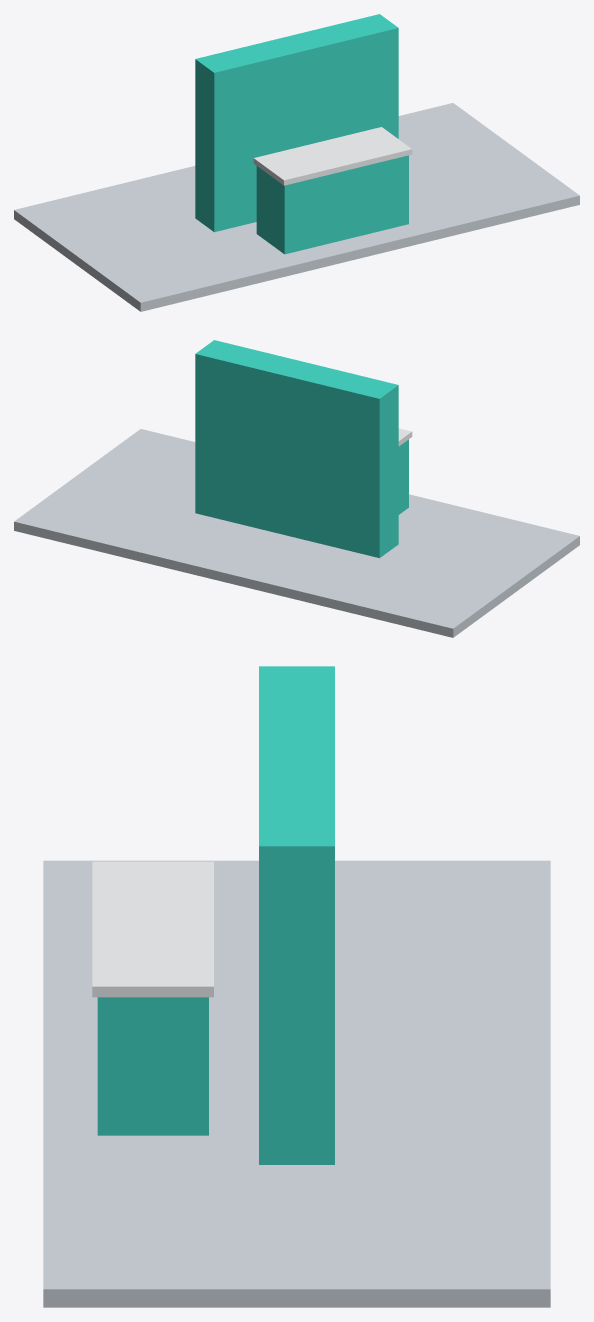
3 views of the same model, one above another, from view 1: azimuth 30°, elevation 25°; view 2: azimuth 150°, elevation 25°; view 3: azimuth 270°, elevation 25° (orthographic). The views are drawn at different scales.
Parts seen in each view (by area): view 1: Exhibition Booth Concept; view 2: Exhibition Booth Concept; view 3: Exhibition Booth Concept.
Part boxes in pixels (x1,y1,x2,y2): Exhibition Booth Concept: [14, 14, 579, 311]; Exhibition Booth Concept: [14, 340, 579, 637]; Exhibition Booth Concept: [43, 666, 550, 1307].
Bounding box in the file's own units: 6 × 2.2 × 3.
